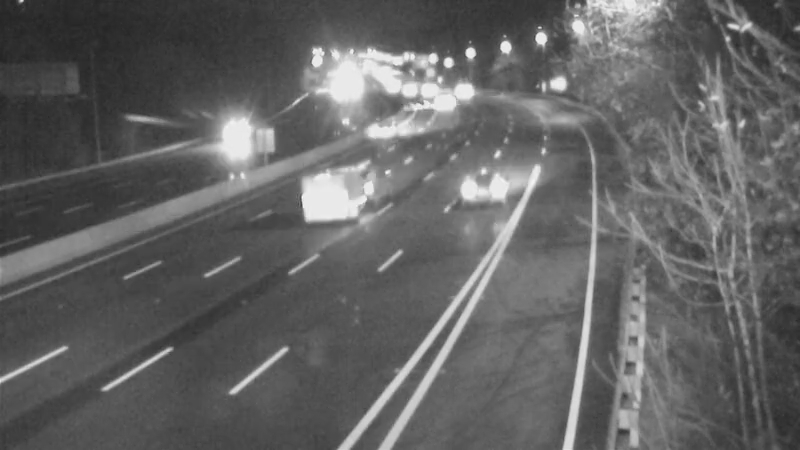vehicle: (310, 151, 390, 231), (443, 148, 523, 228), (438, 66, 488, 116), (379, 67, 429, 117), (401, 66, 451, 116), (414, 75, 464, 125), (390, 81, 440, 131), (361, 107, 411, 157), (222, 108, 272, 158)
